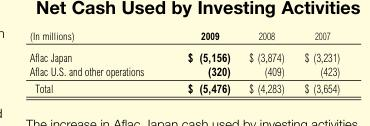table: (29, 29, 339, 94)
table column: (29, 29, 166, 94), (166, 29, 240, 94), (240, 29, 294, 94), (294, 29, 339, 94)
table column header: (29, 29, 339, 45)
table row: (29, 45, 339, 63), (29, 29, 339, 45), (29, 63, 339, 79), (29, 79, 339, 94)
